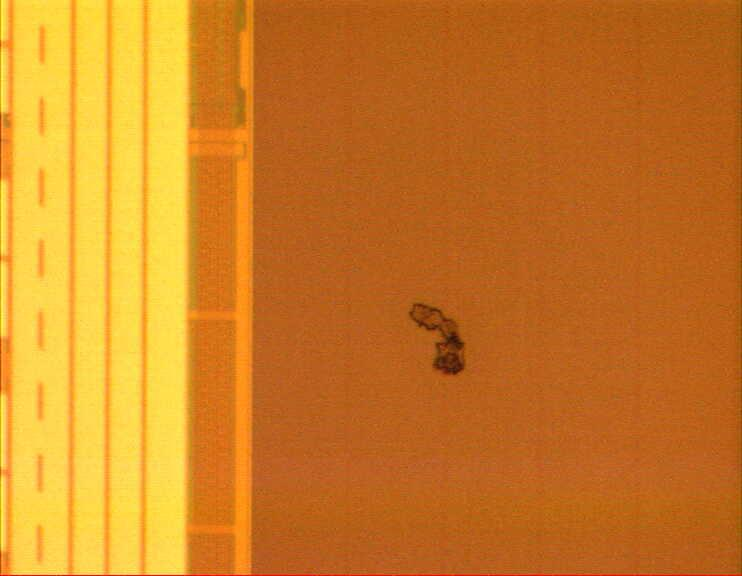PIQ PARTICLE: (408, 300, 470, 379)
